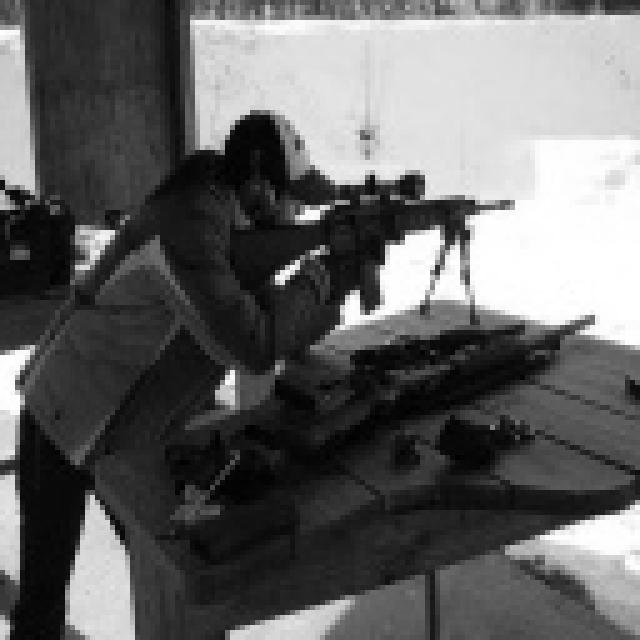Rifle: (173, 155, 544, 377)
